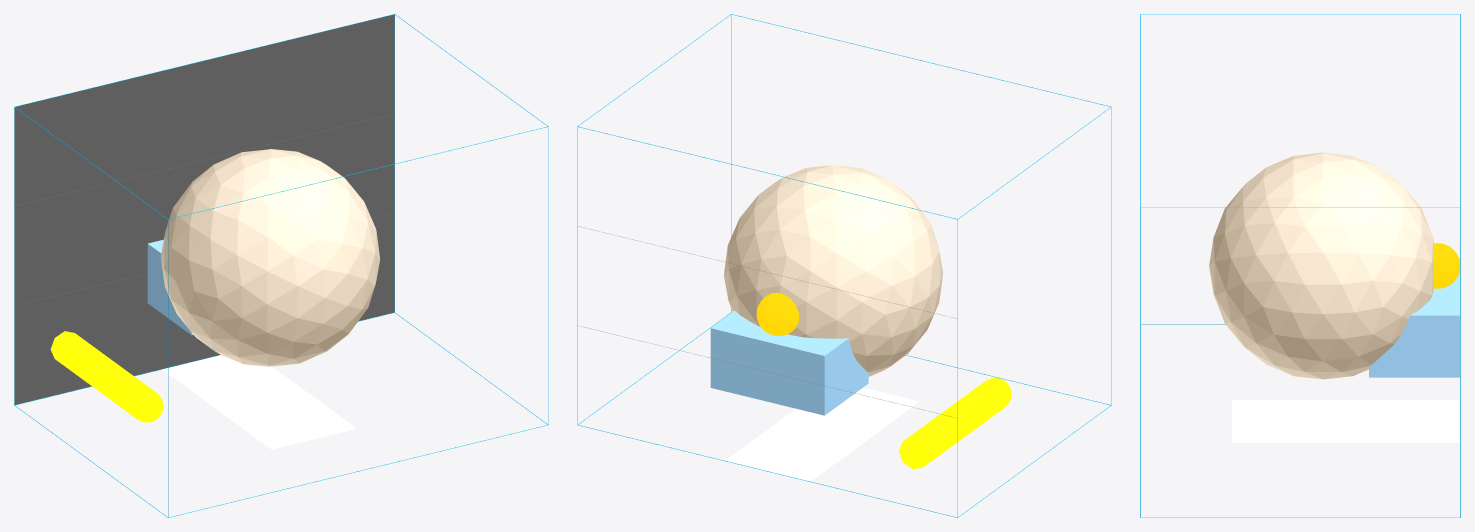
The picture shows the model from 3 angles, left to right: view 1: azimuth 30°, elevation 25°; view 2: azimuth 150°, elevation 25°; view 3: azimuth 270°, elevation 25°; orthographic projection. The views are drawn at different scales.
Parts seen in each view (by area): view 1: ground_plane, smoke_plume, door_0, person_P_001, room_wireframe, furniture_OBJ_001; view 2: smoke_plume, furniture_OBJ_001, door_0, person_P_001, room_wireframe, fire_source; view 3: smoke_plume, door_0, furniture_OBJ_001, room_wireframe, fire_source.
Boxes of the visible parts, x1,y1,x2,y2 form: ground_plane: [14, 14, 394, 404]; smoke_plume: [161, 149, 380, 366]; door_0: [162, 355, 356, 449]; person_P_001: [50, 331, 163, 422]; room_wireframe: [14, 14, 548, 517]; furniture_OBJ_001: [147, 239, 193, 335]; smoke_plume: [724, 165, 943, 376]; furniture_OBJ_001: [710, 310, 868, 415]; door_0: [725, 387, 919, 481]; person_P_001: [899, 378, 1011, 469]; room_wireframe: [577, 14, 1111, 517]; fire_source: [756, 292, 799, 335]; smoke_plume: [1209, 152, 1434, 379]; door_0: [1232, 399, 1459, 442]; furniture_OBJ_001: [1369, 257, 1459, 377]; room_wireframe: [1140, 14, 1460, 517]; fire_source: [1433, 243, 1459, 288].
Size of the model in its own units: 4 by 3 by 2.8.
